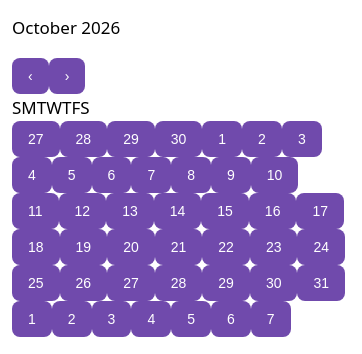
Test case: MiniMonth › browses forward a month
Click the button named "Show next month".
click(67, 76)  # box [49,58,85,94]
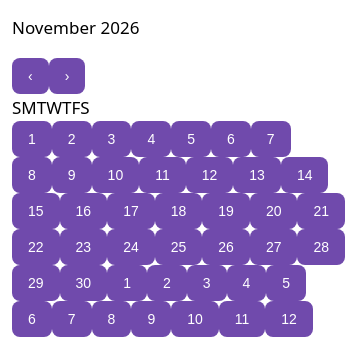
Result: the text "November 2026" is shown at [12,16,139,39]
